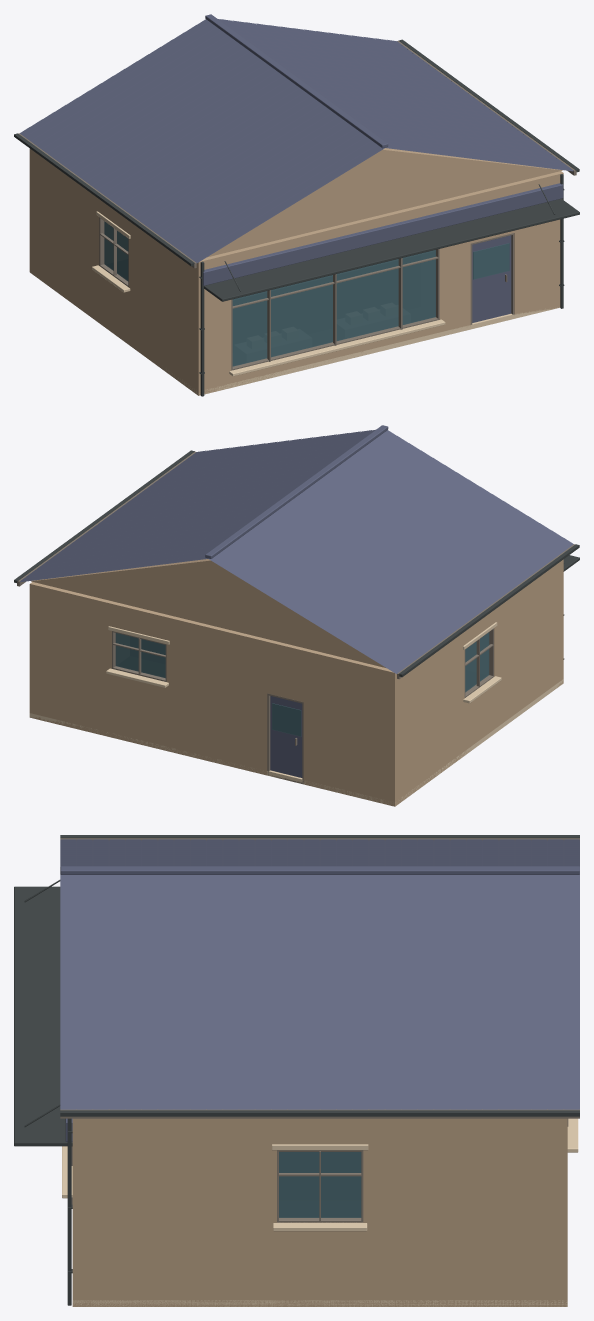
The model's file is small-shop.glb.
3 renders of one model, top to bottom at view 1: azimuth 30°, elevation 25°; view 2: azimuth 150°, elevation 25°; view 3: azimuth 270°, elevation 25°, orthographic. The views are drawn at different scales.
Visible parts, largest first — view 1: small-shop; view 2: small-shop; view 3: small-shop.
Part boxes in pixels (box(x1,y1,x2,y2)): small-shop: box(14, 14, 579, 396); small-shop: box(14, 425, 579, 806); small-shop: box(14, 835, 579, 1306).
Bounding box in the file's own units: 10.64 × 5.49 × 9.15.
